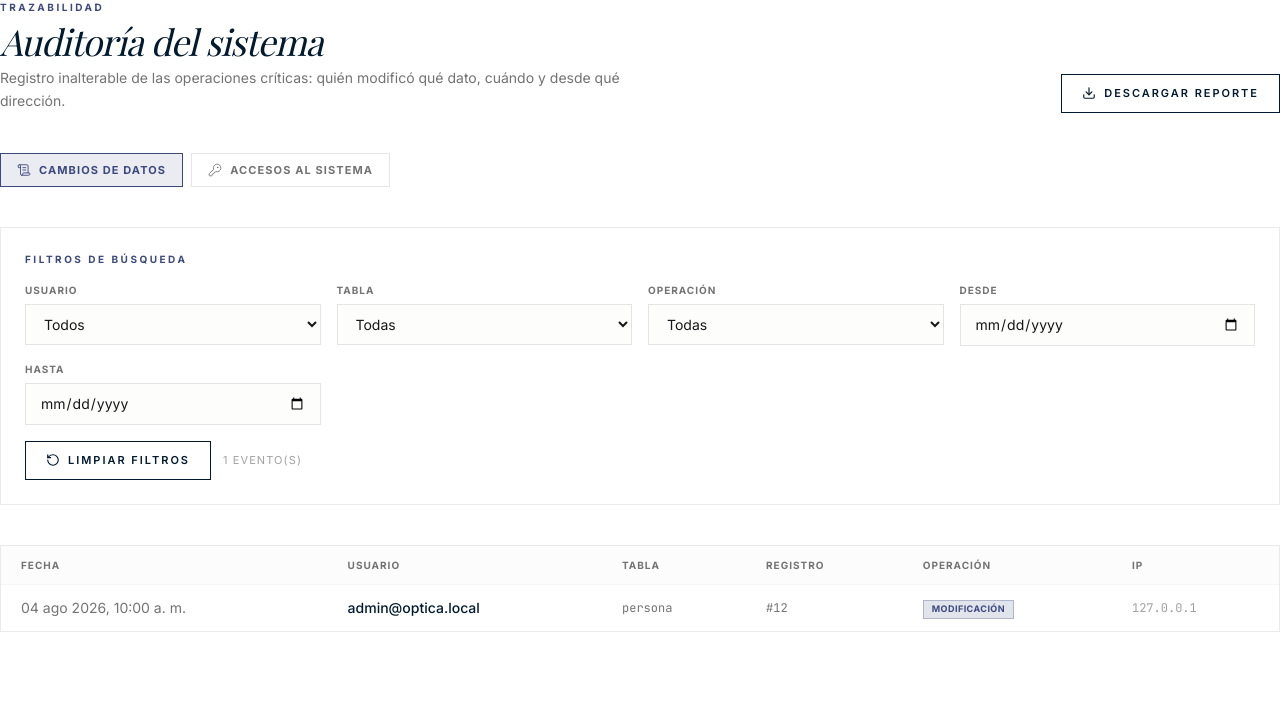
Test case: AuditoriaPage › 3. Detalle del evento › Avisa cuando una modificación antigua no conservó el valor previo
This screenshot has width=1280, height=720.
Click the cell "persona" at (674, 607), box [602,584,746,631]
(page scrolled)
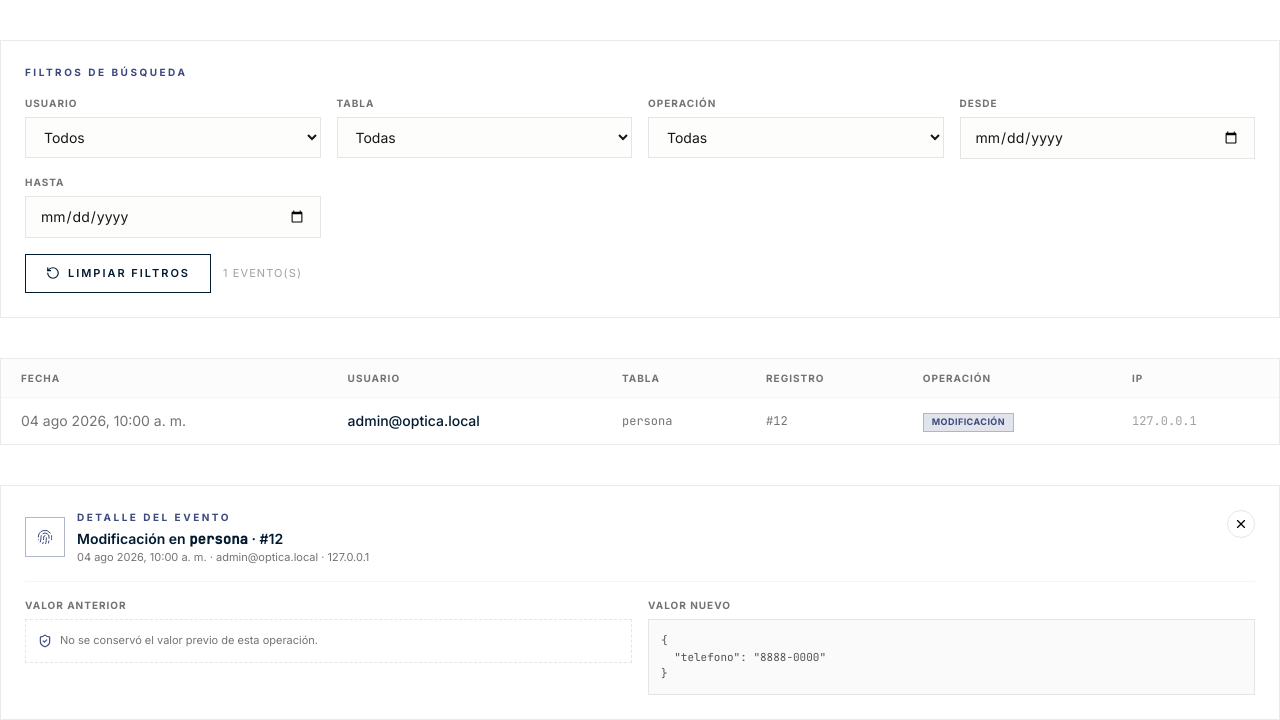
Expected: the text "No se conservó el valor previo de esta operación." is shown, [25,619,632,663]
